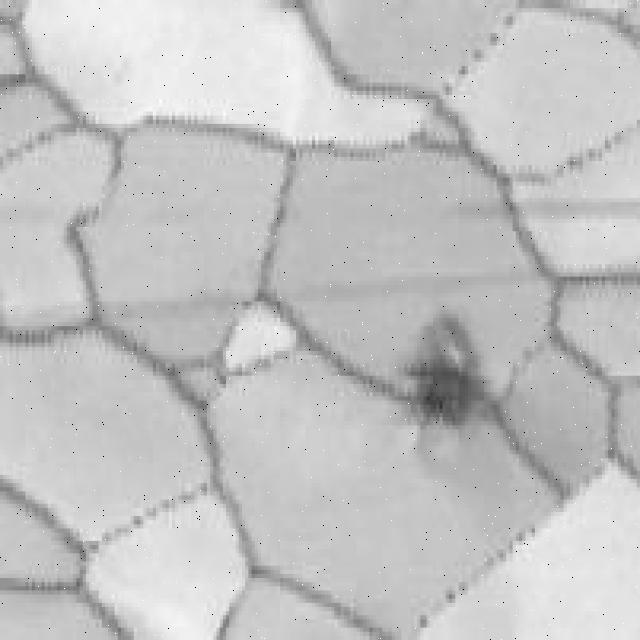good_void: (407, 310, 476, 433)
